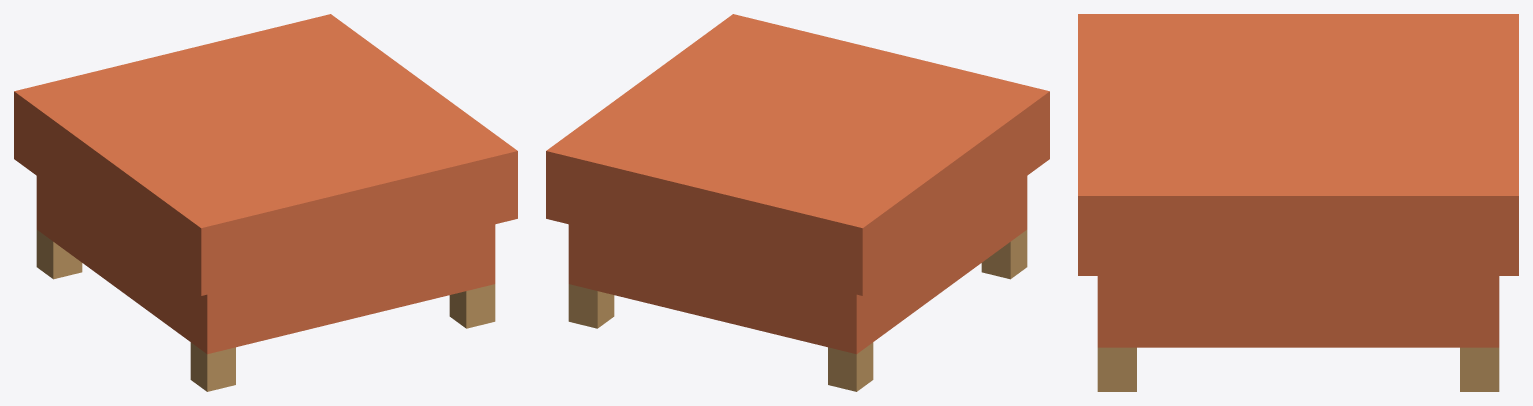
The model's file is loungeSofaOttoman.glb.
3 views of the same model, side by side, from view 1: azimuth 30°, elevation 25°; view 2: azimuth 150°, elevation 25°; view 3: azimuth 270°, elevation 25° (orthographic). The views are drawn at different scales.
Bounding box in the file's own units: 4.4 × 2.3 × 4.5.
